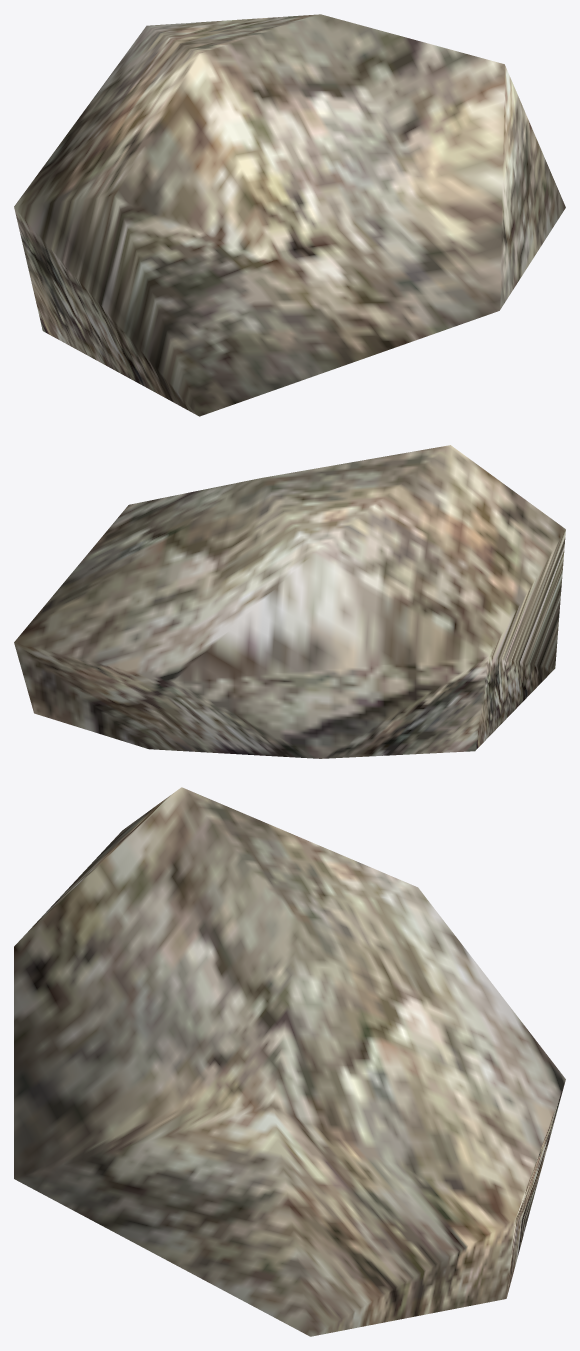
File: stone_granite_me_g.glb
3 views of the same model, one above another, from view 1: azimuth 30°, elevation 25°; view 2: azimuth 150°, elevation 25°; view 3: azimuth 270°, elevation 25° (orthographic). The views are drawn at different scales.
Visible parts, largest first — view 1: stone_granite_me_g; view 2: stone_granite_me_g; view 3: stone_granite_me_g.
Part boxes in pixels (x1,y1,x2,y2): stone_granite_me_g: [14, 14, 565, 416]; stone_granite_me_g: [14, 445, 565, 758]; stone_granite_me_g: [14, 787, 565, 1336].
Bounding box in the file's own units: 2.27 × 1.2 × 1.85.
Materials: 1 (1 with a texture image).
